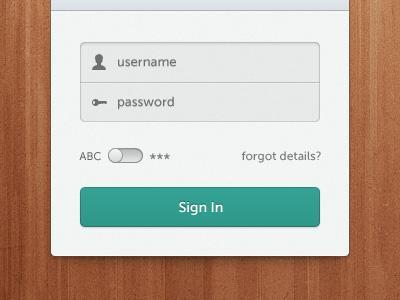button: (80, 187, 321, 228)
icon: (92, 54, 107, 71), (92, 99, 108, 108)
input: (82, 42, 321, 83), (81, 83, 320, 122)
label: (241, 151, 323, 162)
switch: (109, 148, 145, 165)
